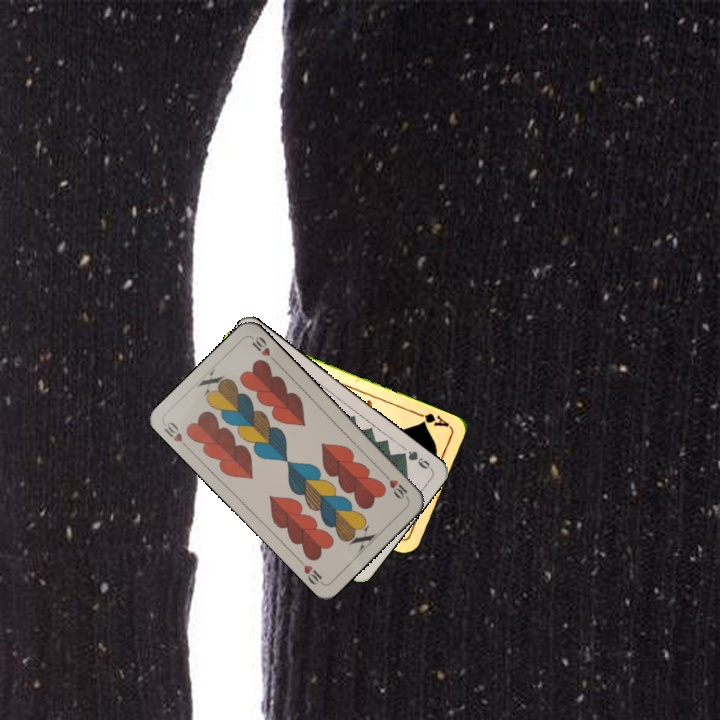G9: (395, 447, 434, 472)
GA: (412, 409, 452, 430)
H10: (160, 418, 192, 452), (379, 469, 411, 502)
